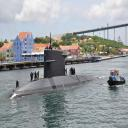submarine: (7, 33, 100, 99)
